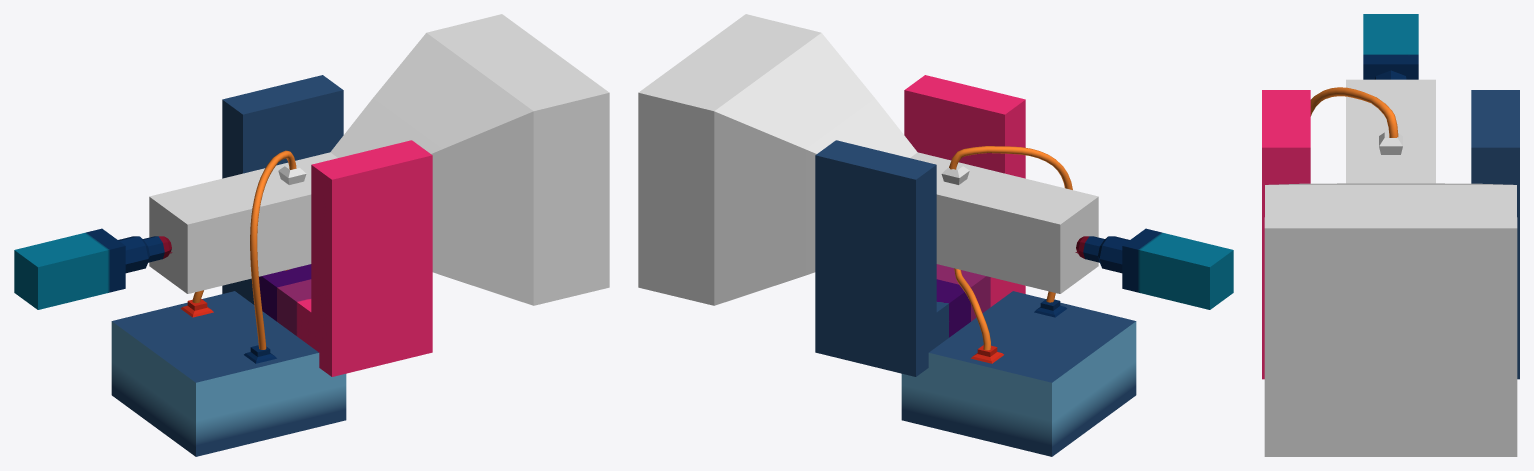
The model's file is chamber.glb.
3 renders of one model, left to right at view 1: azimuth 30°, elevation 25°; view 2: azimuth 150°, elevation 25°; view 3: azimuth 270°, elevation 25°, orthographic. The views are drawn at different scales.
Parts seen in each view (by area): view 1: chamber, supply, pole1, pole2, electrontube; view 2: chamber, supply, pole2, pole1, electrontube; view 3: chamber, pole1, pole2, electrontube, supply.
Part boxes in pixels (box(x1,y1,x2,y2)): chamber: box(149, 14, 609, 305); supply: box(111, 150, 346, 456); pole1: box(277, 140, 432, 376); pole2: box(222, 75, 343, 321); electrontube: box(14, 228, 171, 309); chamber: box(638, 14, 1098, 305); supply: box(901, 146, 1136, 456); pole2: box(815, 140, 970, 376); pole1: box(904, 75, 1025, 321); electrontube: box(1076, 228, 1233, 309); chamber: box(1264, 79, 1517, 456); pole1: box(1262, 90, 1310, 379); pole2: box(1471, 90, 1519, 379); electrontube: box(1363, 14, 1418, 79); supply: box(1310, 87, 1398, 137).
Bounding box in the file's own units: 48.42 × 23.99 × 17.37.
Materials: 1 (1 with a texture image).
